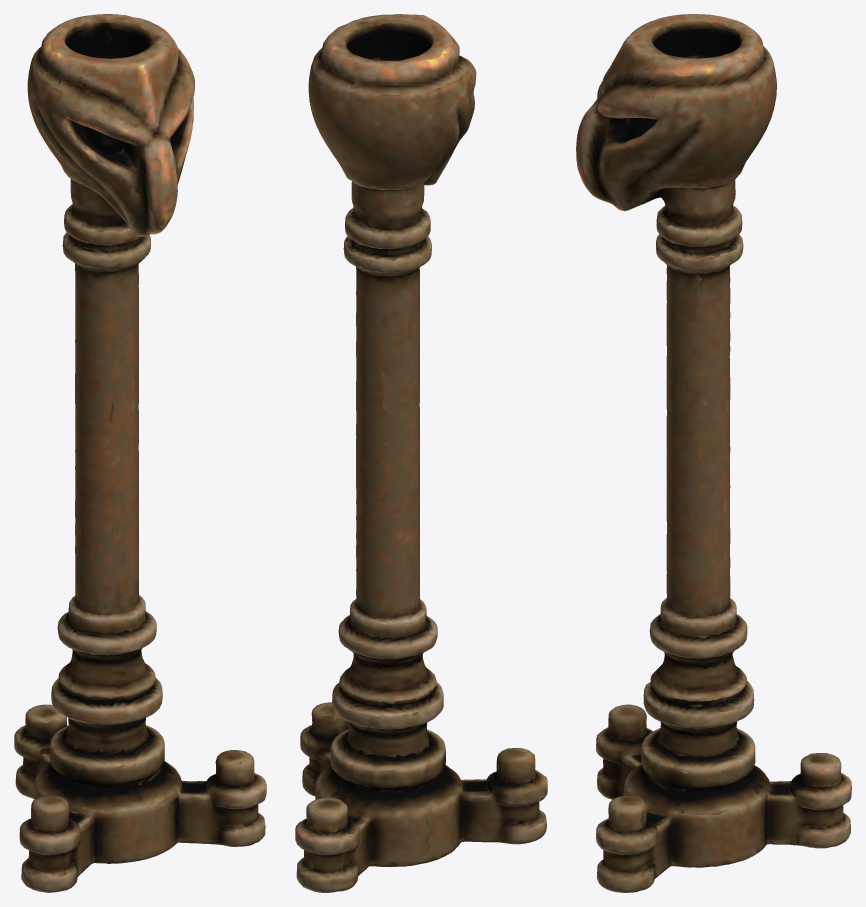
Rendered from TGRN_stand_mesh.obj.
The picture shows the model from 3 angles, left to right: view 1: azimuth 30°, elevation 25°; view 2: azimuth 150°, elevation 25°; view 3: azimuth 270°, elevation 25°; orthographic projection.
Size of the model in its own units: 0.3152 by 1 by 0.3143.
Materials: 1 (1 with a texture image).
